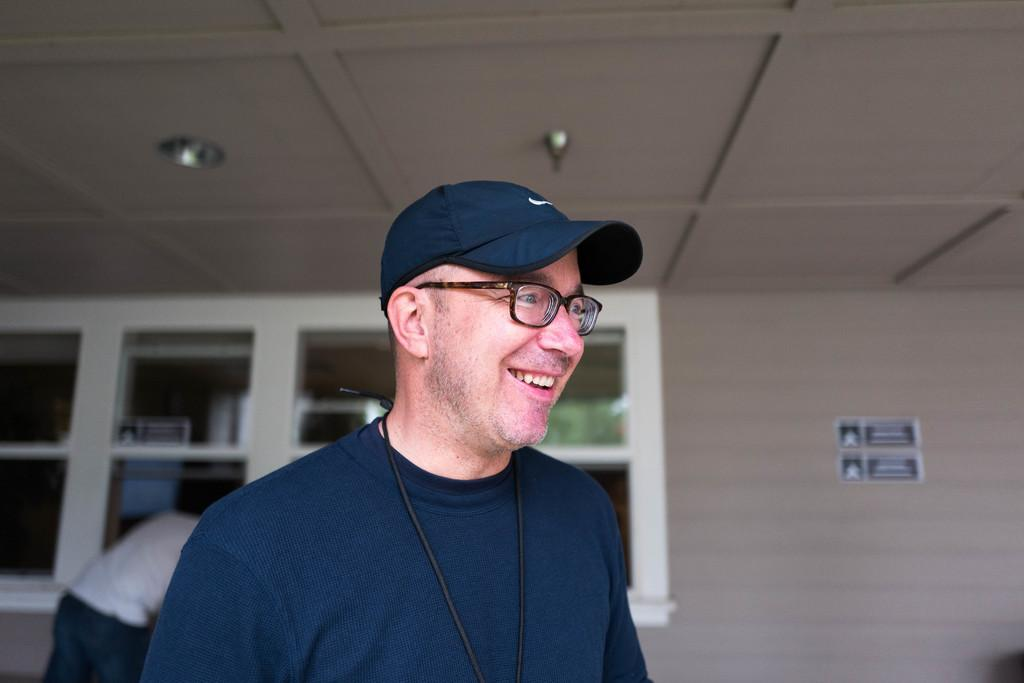Hat: (379, 182, 645, 312)
